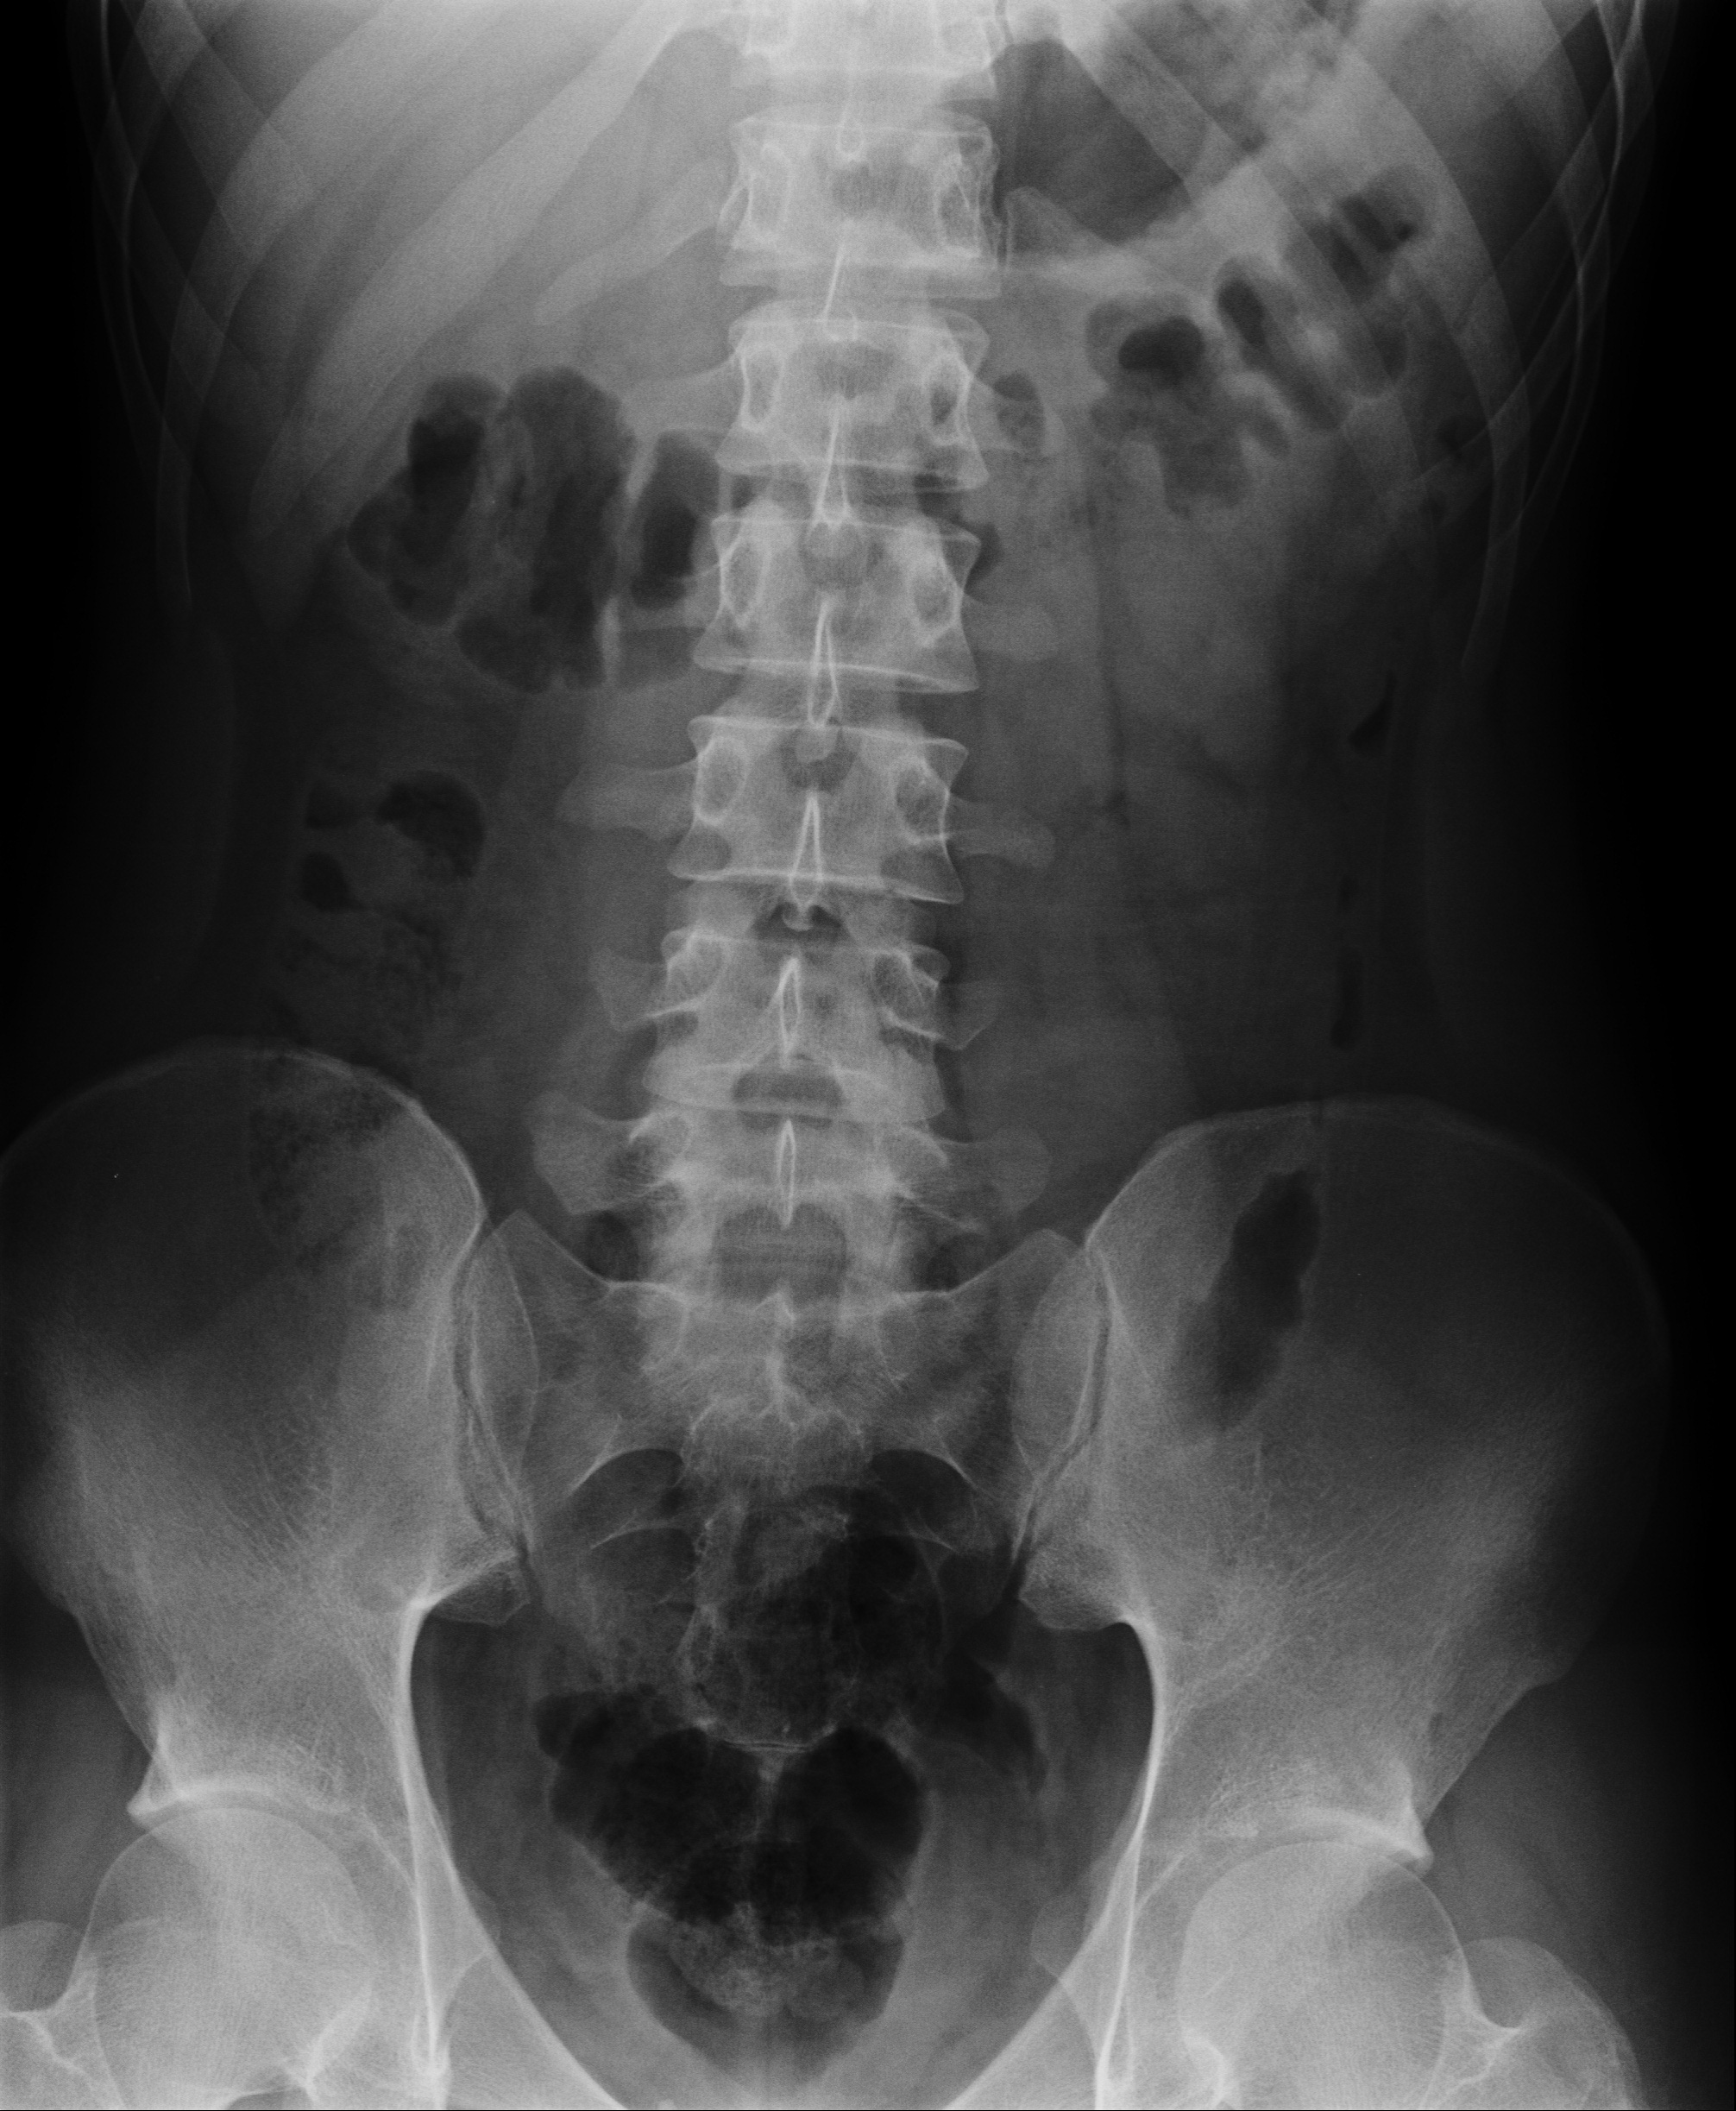lumbar scoliosis: (644, 28, 996, 1317)
